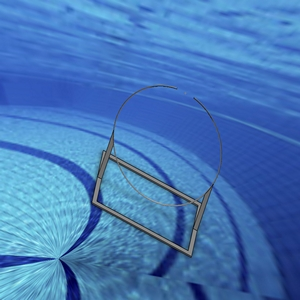circle: (90, 81, 225, 253)
